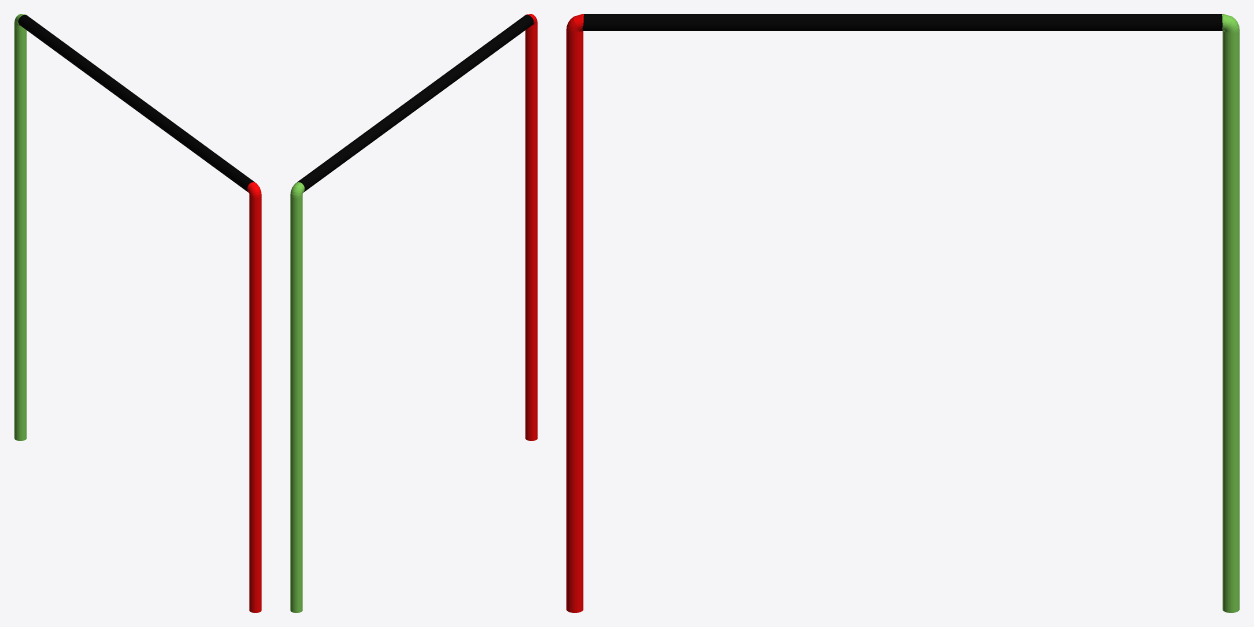
File: sauvc_gate_final.fbx
3 renders of one model, left to right at view 1: azimuth 30°, elevation 25°; view 2: azimuth 150°, elevation 25°; view 3: azimuth 270°, elevation 25°, orthographic. The views are drawn at different scales.
Visible parts, largest first — view 1: Cylinder.001; view 2: Cylinder.001; view 3: Cylinder.001.
Boxes of the visible parts, x1,y1,x2,y2 form: Cylinder.001: (14, 14, 261, 612); Cylinder.001: (290, 14, 537, 612); Cylinder.001: (566, 14, 1239, 612).
Bounding box in the file's own units: 4 × 154 × 158.
